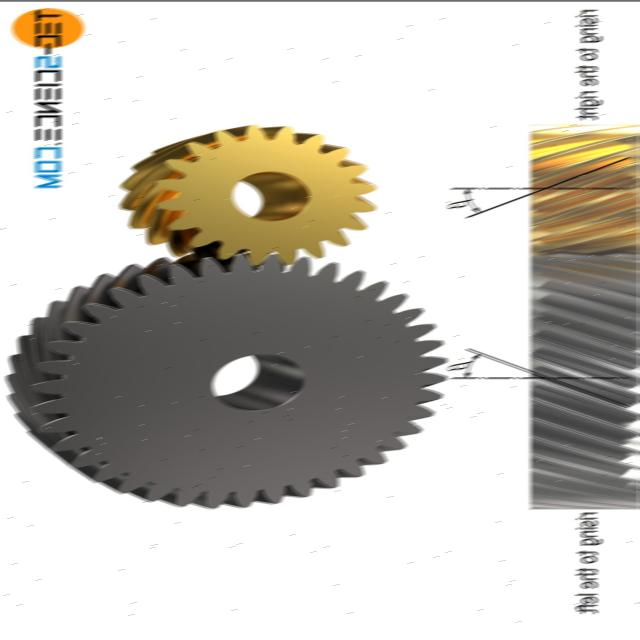Gear: (7, 250, 446, 510), (117, 124, 378, 262)
